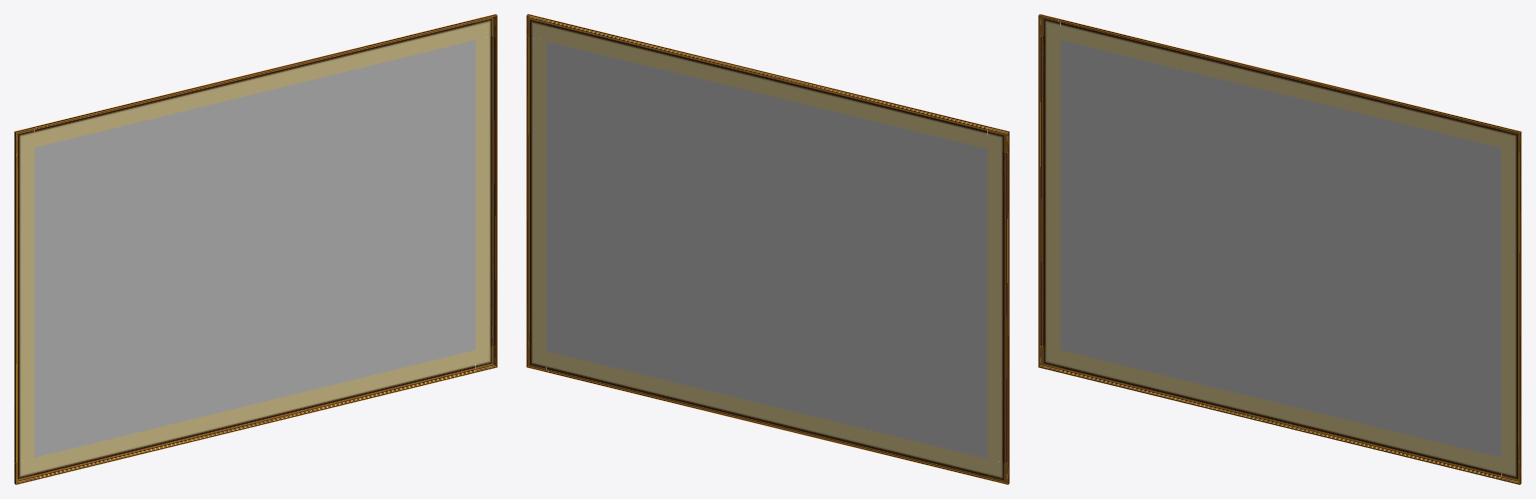
File: Canvas_fix_003.fbx
The picture shows the model from 3 angles, left to right: view 1: azimuth 30°, elevation 25°; view 2: azimuth 150°, elevation 25°; view 3: azimuth 330°, elevation 25°; orthographic projection.
Visible parts, largest first — view 1: Canvas_fix_003; view 2: Canvas_fix_003; view 3: Canvas_fix_003.
Boxes of the visible parts, x1,y1,x2,y2 form: Canvas_fix_003: [14, 14, 497, 484]; Canvas_fix_003: [526, 14, 1009, 484]; Canvas_fix_003: [1038, 14, 1521, 484].
Size of the model in its own units: 262 by 183 by 1.59.
